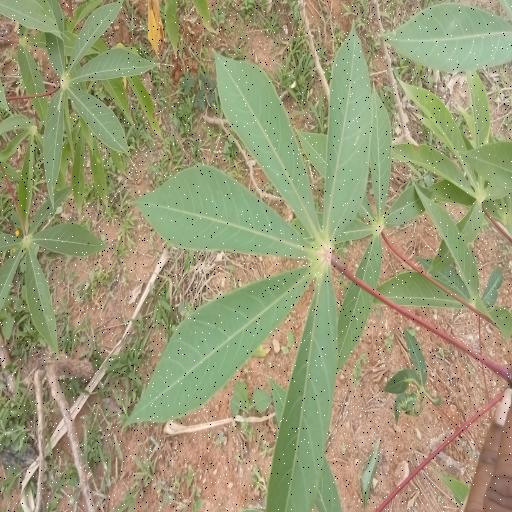Cassava_Healthy: (133, 23, 374, 512)
